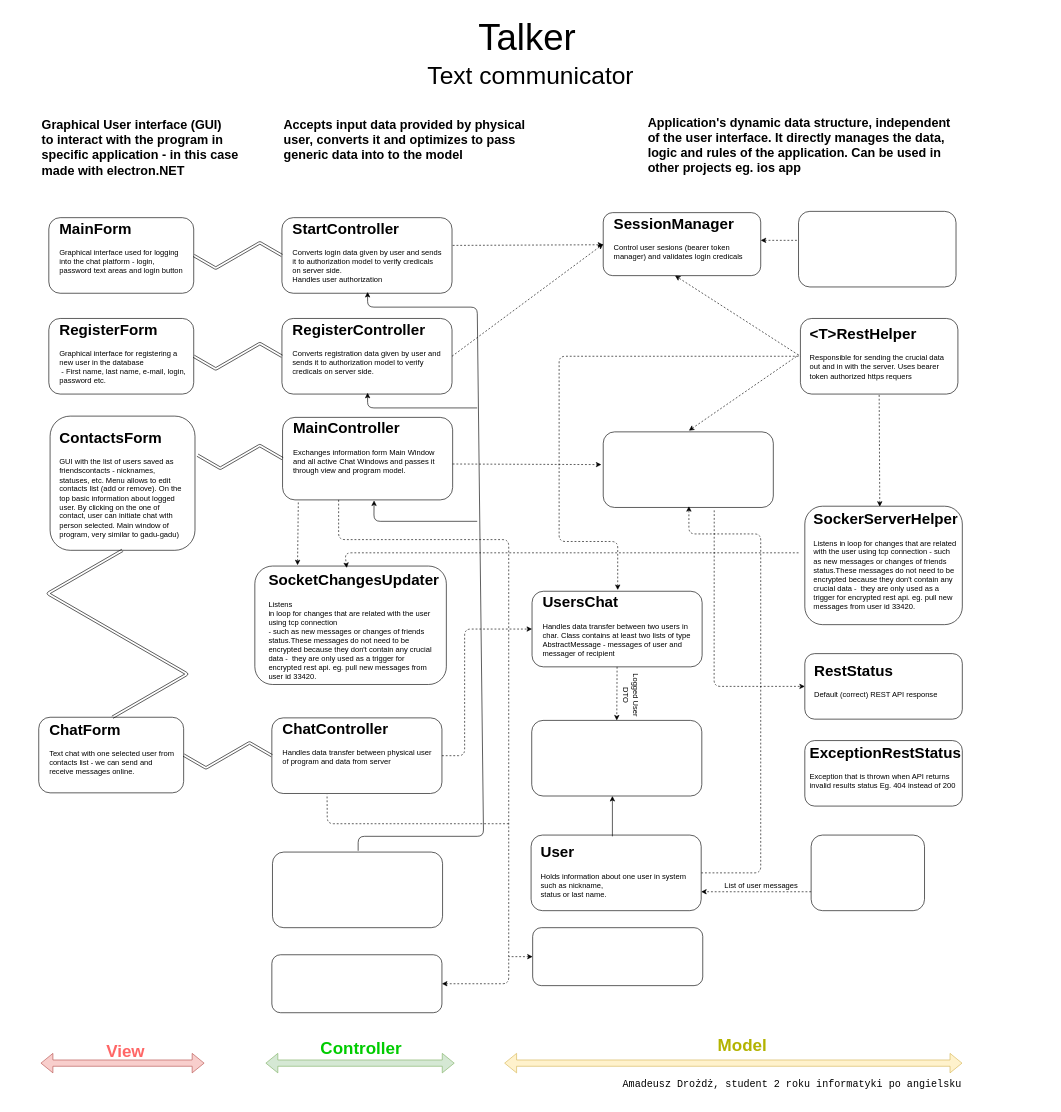
Image size: 1061x1112. Some labels were removed from this diagram. The centre of each missing label's shape, as x and y in pixels:
"Controller A base class for MVC controller with view support" goes at point 357,889.
"HelperMethods Holds additional methods used in controller" goes at point 356,983.
"Message User's DTO contains information about one user in the system" goes at point 867,872.
"Profile User's DTO stares information about user and list of his contacts." goes at point 616,758.
"Token User's DTO contains bearer token information of currently logged user" goes at point 877,249.
"UserMainProfile Stores information about logged user and list of his contacts." goes at point 688,469.
"UserRequest User's DTO contains information about one user in the system" goes at point 617,956.
